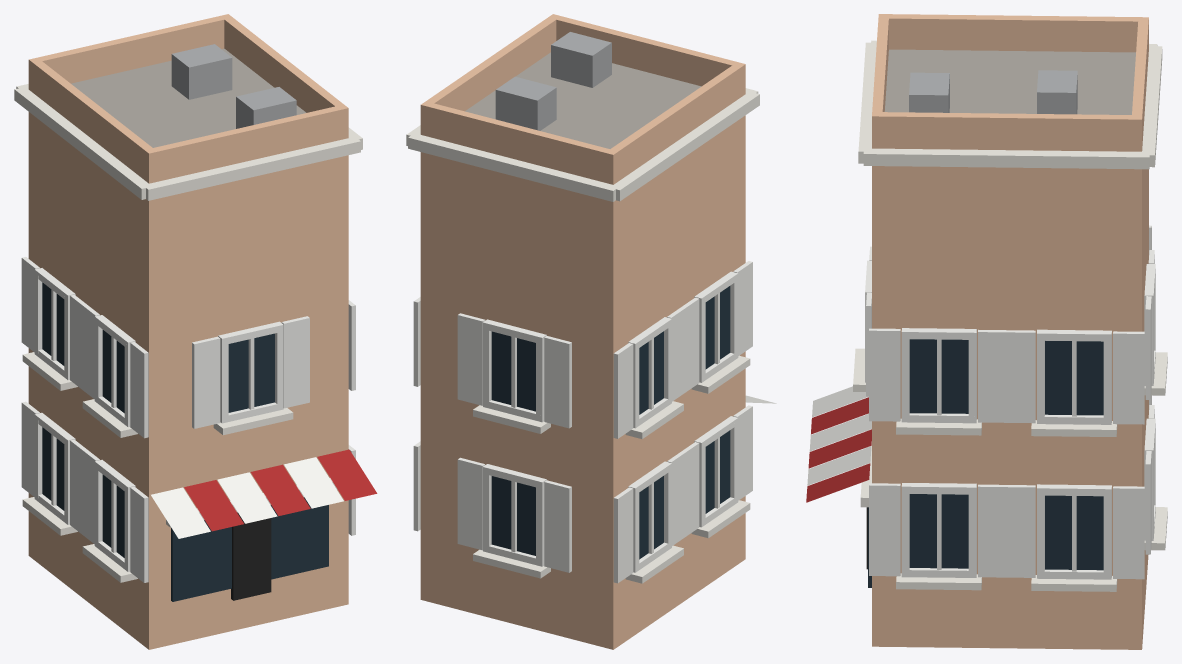
3 views of the same model, side by side, from view 1: azimuth 30°, elevation 25°; view 2: azimuth 150°, elevation 25°; view 3: azimuth 270°, elevation 25° (orthographic). The views are drawn at different scales.
Visible parts, largest first — view 1: b11687; view 2: b11687; view 3: b11687.
Boxes of the visible parts, x1=… form: b11687: x1=14, y1=14, x2=377, y2=649; b11687: x1=406, y1=14, x2=776, y2=649; b11687: x1=806, y1=14, x2=1167, y2=649.
Size of the model in its own units: 2213 by 4485 by 2753.
